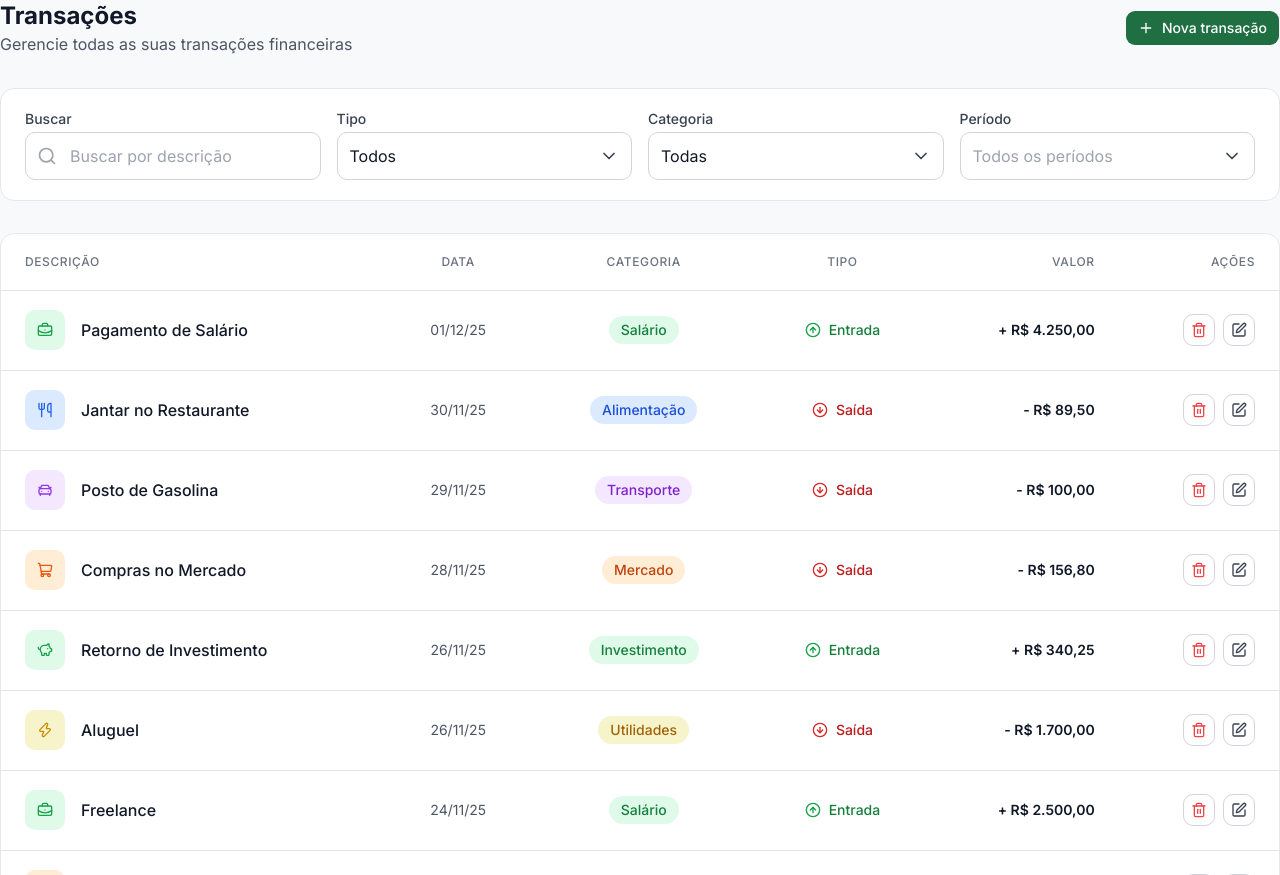
Test: Transactions page › deletes a transaction
Click the button named "Excluir Pagamento de Salário" at (1199,330), box [1183,314,1215,346]
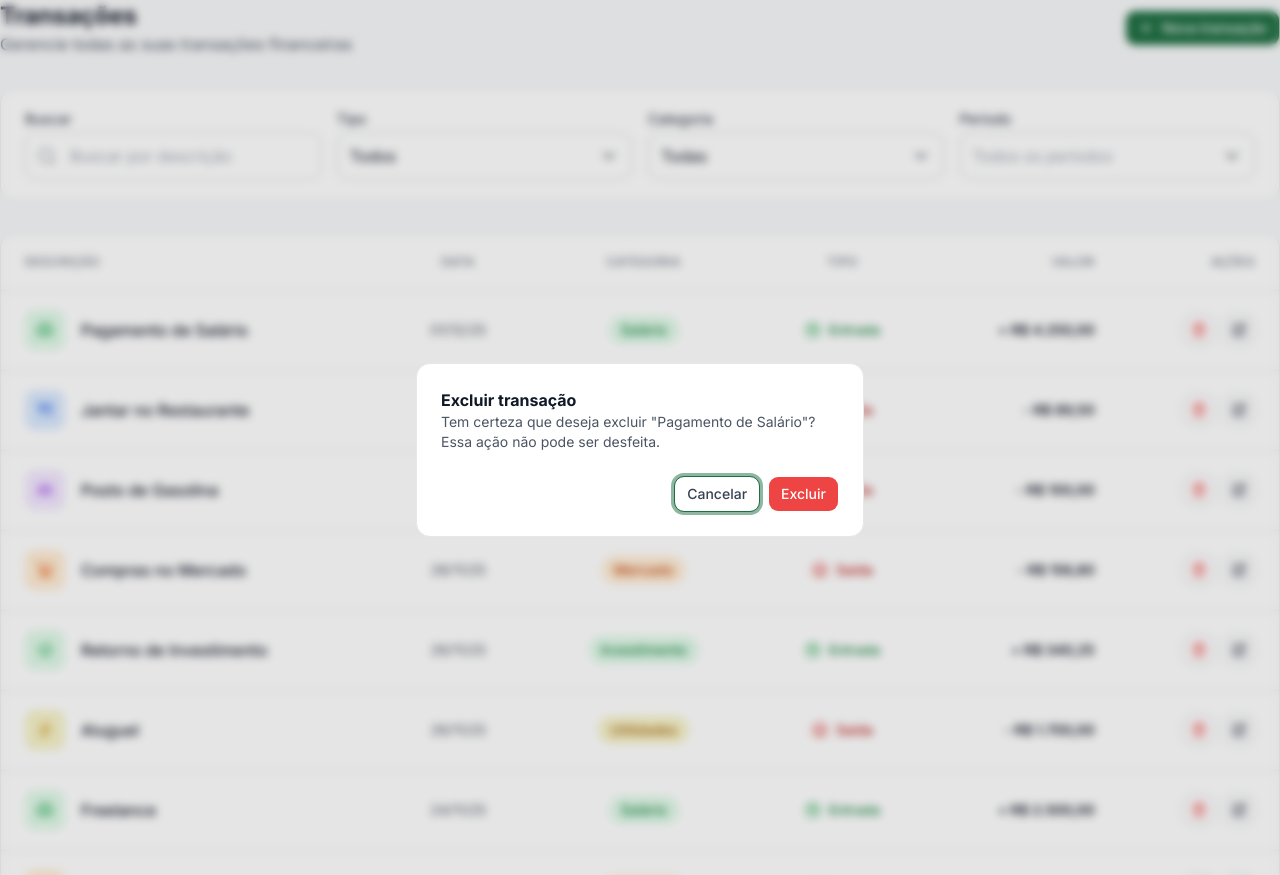
Click the button "Excluir" at (804,494), box [768,476,839,512]
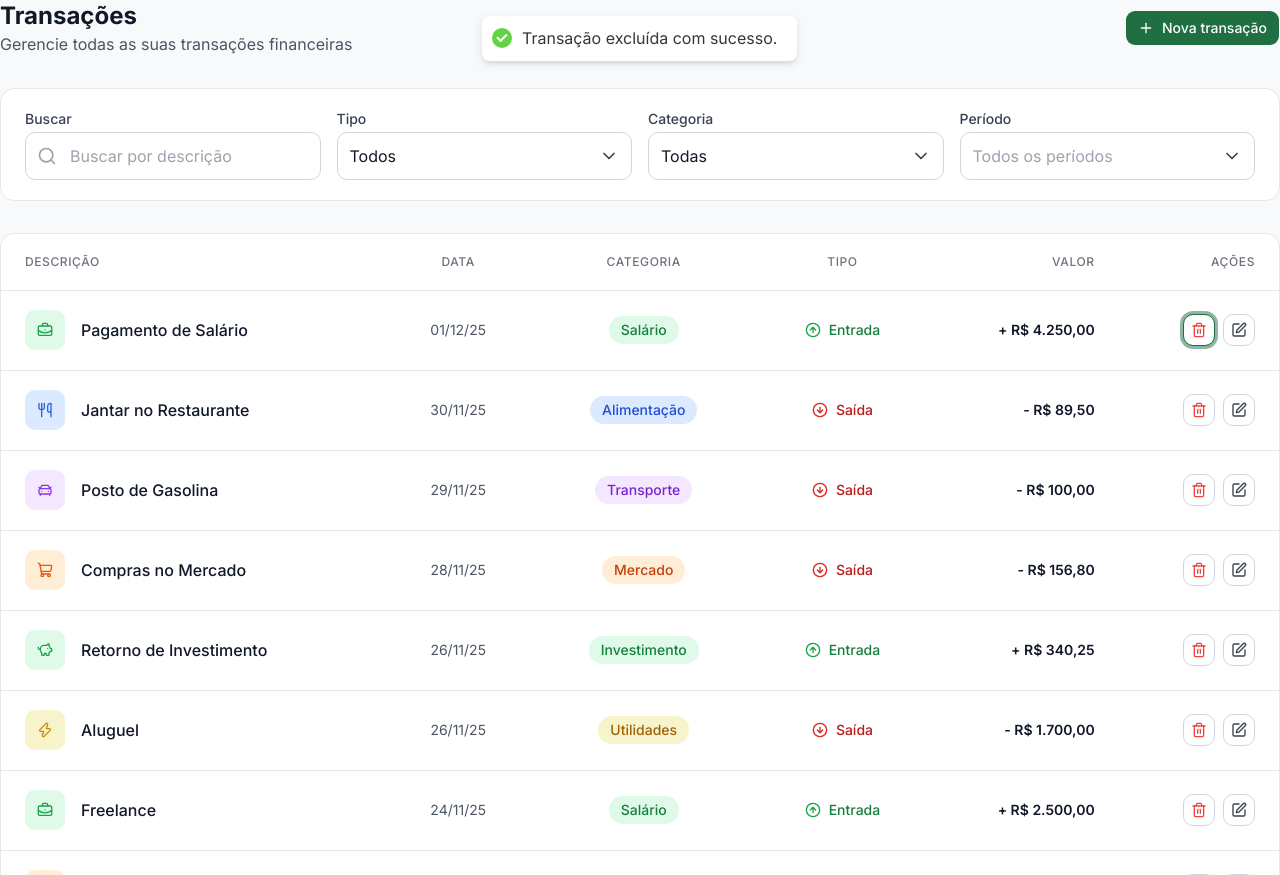
Now the text "Transação excluída com sucesso." is shown, box [522,28,778,49]
